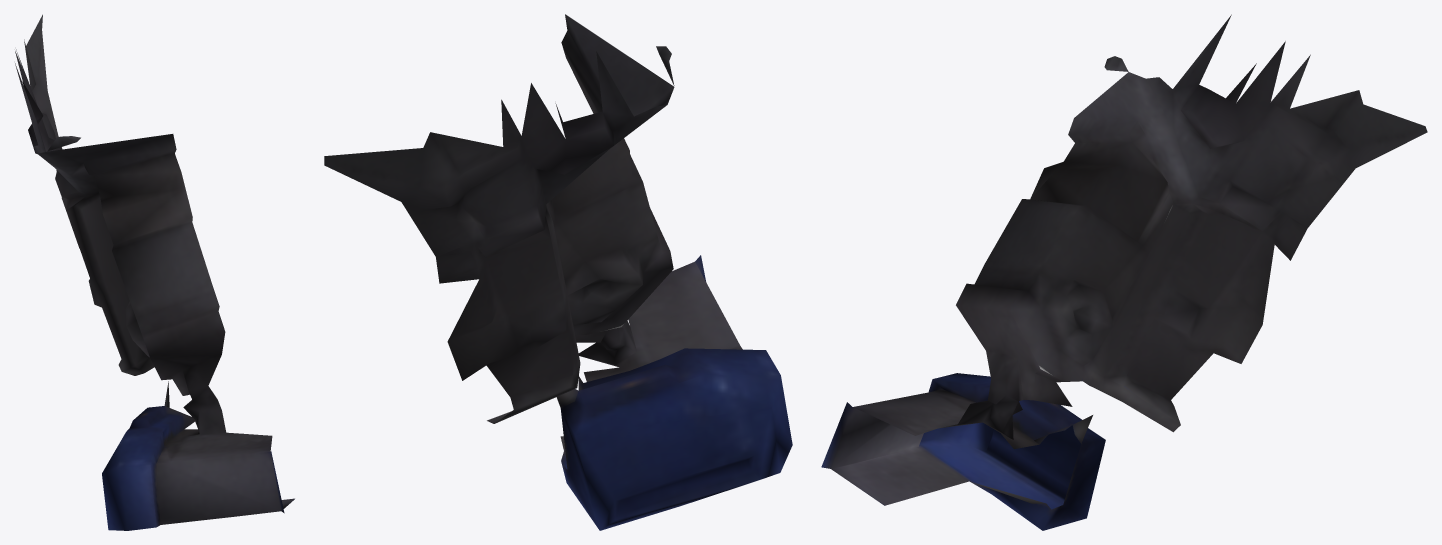
The model's file is blue_leg_left_lower.glb.
The picture shows the model from 3 angles, left to right: view 1: azimuth 30°, elevation 25°; view 2: azimuth 150°, elevation 25°; view 3: azimuth 270°, elevation 25°; orthographic projection. The views are drawn at different scales.
Parts seen in each view (by area): view 1: blue_leg_left_lower; view 2: blue_leg_left_lower; view 3: blue_leg_left_lower.
Boxes of the visible parts, x1,y1,x2,y2 form: blue_leg_left_lower: (15, 14, 294, 530); blue_leg_left_lower: (324, 14, 792, 530); blue_leg_left_lower: (821, 14, 1427, 530).
Size of the model in its own units: 0.4815 by 1.24 by 1.45.
1 material, 1 textured.
